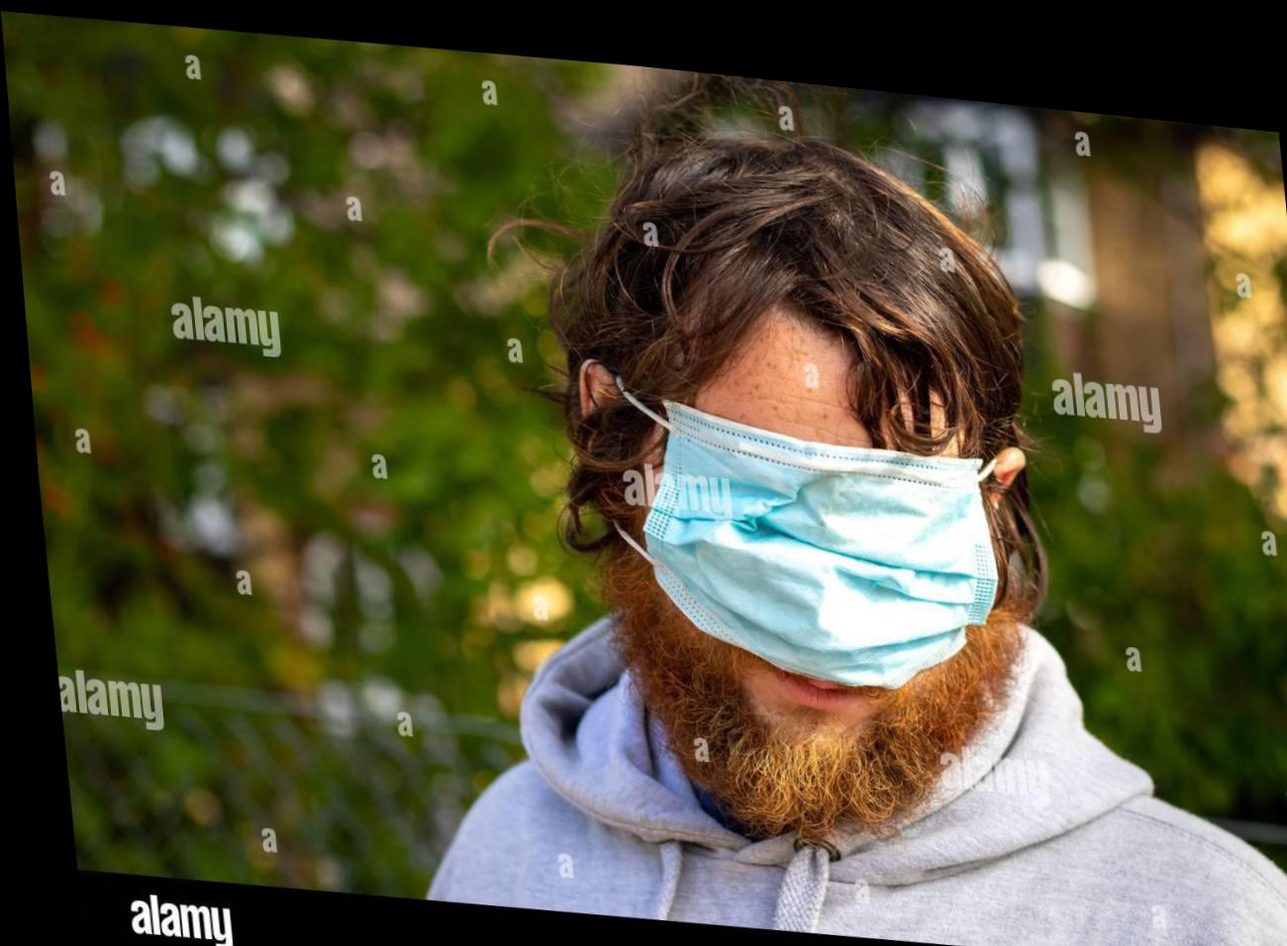WRONG: (622, 333, 1005, 775)
